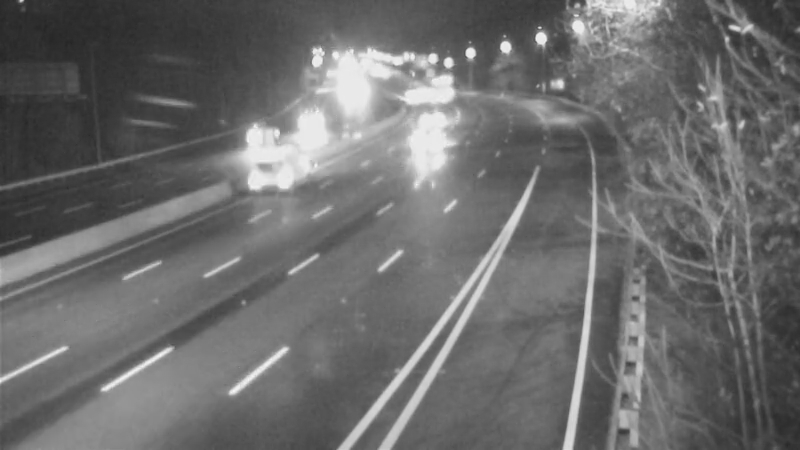vehicle: (234, 125, 314, 205), (419, 73, 469, 123), (381, 69, 431, 119), (403, 91, 453, 141), (397, 113, 447, 163), (227, 118, 277, 168), (289, 101, 339, 151)
